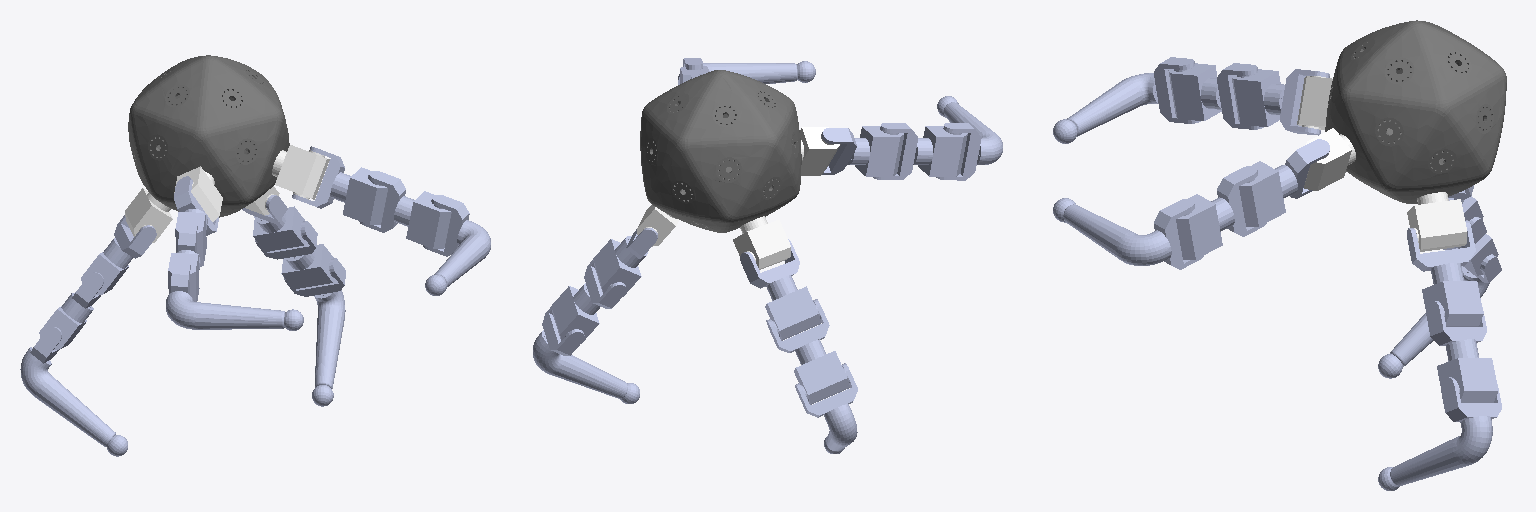
The robot description file, URDF, robot "mod_test":
<?xml version="1.0" encoding="utf-8"?>
<robot
  name="mod_test">
  <link
    name="base_link">
    <inertial>
      <origin
        xyz="-1.5226495220944E-06 1.5812928362389E-07 -5.05247252856584E-07"
        rpy="0 0 0" />
      <mass
        value="0.422806992949252" />
      <inertia
        ixx="0.00237499139253511"
        ixy="1.5717831530364E-08"
        ixz="1.49286265366169E-08"
        iyy="0.00237502154661776"
        iyz="-2.02154172619351E-08"
        izz="0.00237502595466009" />
    </inertial>
    <visual>
      <origin
        xyz="0 0 0"
        rpy="0 0 0" />
      <geometry>
        <mesh
          filename="package://meshes/base_link.STL" />
      </geometry>
      <material
        name="">
        <color
          rgba="0.498039215686275 0.498039215686275 0.498039215686275 1" />
      </material>
    </visual>
    <collision>
      <origin
        xyz="0 0 0"
        rpy="0 0 0" />
      <geometry>
        <mesh
          filename="package://meshes/base_link.STL" />
      </geometry>
    </collision>
  </link>
  <link
   name="100">
   <inertial>
      <origin
        xyz="0 0 0.028508"
        rpy="0 0 0" />
      <mass
        value="0.076173" />
      <inertia
        ixx="3.054E-05"
        ixy="0.000000"
        ixz="-0.000000"
        iyy="2.1077E-05"
        iyz="-0.000000"
        izz="2.1165E-05" />
    </inertial>
    <visual>
      <origin
        xyz="0 0 0"
        rpy="0 0 0" />
      <geometry>
        <mesh
          filename="package://meshes/1.STL" />
      </geometry>
      <material
        name="">
        <color
          rgba="1 1 1 1" />
      </material>
    </visual>
    <collision>
      <origin
        xyz="0 0 0"
        rpy="0 0 0" />
      <geometry>
        <mesh
          filename="package://meshes/1.STL" />
      </geometry>
    </collision>
  </link>
  <joint
    name="body_100"
    type="fixed">
    <origin
        xyz="0.051620 -0.071049 -0.016769"
        rpy="-1.787804 -0.513383 -2.405411" />
    <parent
      link="base_link" />
    <child
      link="100" />
    <axis
      xyz="0 0 0" />
  </joint>
  <link
    name="101">
    <inertial>
      <origin
        xyz="0.060018 -1.4108E-06 1.4108E-06"
        rpy="0 0 0" />
    <mass
        value="0.10689" />
      <inertia
        ixx="3.2684e-05"
        ixy="-2.5662e-09"
        ixz="2.5662e-09"
        iyy="9.1229e-05"
        iyz="4.0975e-06"
        izz="7.7485e-05" />
    </inertial>
    <visual>
      <origin
        xyz="0 0 0"
        rpy="0 0 0" />
      <geometry>
        <mesh
          filename="package://meshes/module1.STL" />
      </geometry>
      <material
        name="">
        <color
          rgba="0.79216 0.81961 0.93333 1" />
      </material>
    </visual>
    <collision>
      <origin
        xyz="0 0 0"
        rpy="0 0 0" />
      <geometry>
        <mesh
          filename="package://meshes/module1.STL" />
      </geometry>
    </collision>
  </link>
  <joint
    name="100_101"
    type="revolute">
    <origin
      xyz="0 0 0.04"
      rpy="-1.558 -1.5708 -0.012835" />
    <parent
      link="100" />
    <child
      link="101" />
    <axis
      xyz="0 0 1" />
    <limit
      lower="-6.28"
      upper="6.28"
      effort="10"
      velocity="100" />
  </joint>
  <link
    name="102">
    <inertial>
      <origin
        xyz="0.060018 -1.4108E-06 1.4108E-06"
        rpy="0 0 0" />
    <mass
        value="0.10689" />
      <inertia
        ixx="3.2684e-05"
        ixy="-2.5662e-09"
        ixz="2.5662e-09"
        iyy="9.3595e-05"
        iyz="-2.1275e-13"
        izz="7.512e-05" />
    </inertial>
    <visual>
      <origin
        xyz="0 0 0"
        rpy="0 0 0" />
      <geometry>
        <mesh
          filename="package://meshes/module6.STL" />
      </geometry>
      <material
        name="">
        <color
          rgba="0.79216 0.81961 0.93333 1" />
      </material>
    </visual>
    <collision>
      <origin
        xyz="0 0 0"
        rpy="0 0 0" />
      <geometry>
        <mesh
          filename="package://meshes/module6.STL" />
      </geometry>
    </collision>
  </link>
  <joint
    name="101_102"
    type="revolute">
    <origin
      xyz="0.0816 0 0"
      rpy="0.523599 0 0" />
    <parent
      link="101" />
    <child
      link="102" />
    <axis
      xyz="0 0 1" />
    <limit
      lower="-6.28"
      upper="6.28"
      effort="10"
      velocity="100" />
  </joint>
  <link
    name="103">
    <inertial>
      <origin
        xyz="0.051733 -0.042281 -1.3878E-17"
        rpy="0 0 0" />
    <mass
        value="0.12059" />
      <inertia
        ixx="0.00025425"
        ixy="4.8319E-05"
        ixz="0"
        iyy="5.0194E-05"
        iyz="-3.3141E-21"
        izz="0.00027482" />
    </inertial>
    <visual>
      <origin
        xyz="0 0 0"
        rpy="0 0 0" />
      <geometry>
        <mesh
          filename="package://meshes/leg.STL" />
      </geometry>
      <material
        name="">
        <color
          rgba="0.79216 0.81961 0.93333 1" />
      </material>
    </visual>
    <collision>
      <origin
        xyz="0 0 0"
        rpy="0 0 0" />
      <geometry>
        <mesh
          filename="package://meshes/leg.STL" />
      </geometry>
    </collision>
  </link>
  <joint
    name="102_103"
    type="revolute">
    <origin
      xyz="0.0816 0 0"
      rpy="3.141593 0 0" />
    <parent
      link="102" />
    <child
      link="103" />
    <axis
      xyz="0 0 1" />
    <limit
      lower="-6.28"
      upper="6.28"
      effort="10"
      velocity="100" />
  </joint>
  <link
   name="160">
   <inertial>
      <origin
        xyz="0 0 0.028508"
        rpy="0 0 0" />
      <mass
        value="0.076173" />
      <inertia
        ixx="3.054E-05"
        ixy="0.000000"
        ixz="0.000000"
        iyy="2.1077E-05"
        iyz="0.000000"
        izz="2.1165E-05" />
    </inertial>
    <visual>
      <origin
        xyz="0 0 0"
        rpy="0 0 0" />
      <geometry>
        <mesh
          filename="package://meshes/1.STL" />
      </geometry>
      <material
        name="">
        <color
          rgba="1 1 1 1" />
      </material>
    </visual>
    <collision>
      <origin
        xyz="0 0 0"
        rpy="0 0 0" />
      <geometry>
        <mesh
          filename="package://meshes/1.STL" />
      </geometry>
    </collision>
  </link>
  <joint
    name="body_160"
    type="fixed">
    <origin
        xyz="0.051623 0.016773 -0.071046"
        rpy="3.141593 -0.652404 0.314159" />
    <parent
      link="base_link" />
    <child
      link="160" />
    <axis
      xyz="0 0 0" />
  </joint>
  <link
    name="161">
    <inertial>
      <origin
        xyz="0.060018 -1.4108E-06 1.4108E-06"
        rpy="0 0 0" />
    <mass
        value="0.10689" />
      <inertia
        ixx="3.2684e-05"
        ixy="-2.5662e-09"
        ixz="2.5662e-09"
        iyy="9.1229e-05"
        iyz="-4.0975e-06"
        izz="7.7485e-05" />
    </inertial>
    <visual>
      <origin
        xyz="0 0 0"
        rpy="0 0 0" />
      <geometry>
        <mesh
          filename="package://meshes/module11.STL" />
      </geometry>
      <material
        name="">
        <color
          rgba="0.79216 0.81961 0.93333 1" />
      </material>
    </visual>
    <collision>
      <origin
        xyz="0 0 0"
        rpy="0 0 0" />
      <geometry>
        <mesh
          filename="package://meshes/module11.STL" />
      </geometry>
    </collision>
  </link>
  <joint
    name="160_161"
    type="revolute">
    <origin
      xyz="0 0 0.04"
      rpy="-1.558 -1.5708 -0.012835" />
    <parent
      link="160" />
    <child
      link="161" />
    <axis
      xyz="0 0 1" />
    <limit
      lower="-6.28"
      upper="6.28"
      effort="10"
      velocity="100" />
  </joint>
  <link
    name="162">
    <inertial>
      <origin
        xyz="0.060018 -1.4108E-06 1.4108E-06"
        rpy="0 0 0" />
    <mass
        value="0.10689" />
      <inertia
        ixx="3.2684e-05"
        ixy="-2.5662e-09"
        ixz="2.5662e-09"
        iyy="9.3595e-05"
        iyz="-2.1275e-13"
        izz="7.512e-05" />
    </inertial>
    <visual>
      <origin
        xyz="0 0 0"
        rpy="0 0 0" />
      <geometry>
        <mesh
          filename="package://meshes/module0.STL" />
      </geometry>
      <material
        name="">
        <color
          rgba="0.79216 0.81961 0.93333 1" />
      </material>
    </visual>
    <collision>
      <origin
        xyz="0 0 0"
        rpy="0 0 0" />
      <geometry>
        <mesh
          filename="package://meshes/module0.STL" />
      </geometry>
    </collision>
  </link>
  <joint
    name="161_162"
    type="revolute">
    <origin
      xyz="0.0816 0 0"
      rpy="5.759587 0 0" />
    <parent
      link="161" />
    <child
      link="162" />
    <axis
      xyz="0 0 1" />
    <limit
      lower="-6.28"
      upper="6.28"
      effort="10"
      velocity="100" />
  </joint>
  <link
    name="163">
    <inertial>
      <origin
        xyz="0.051733 -0.042281 -1.3878E-17"
        rpy="0 0 0" />
    <mass
        value="0.12059" />
      <inertia
        ixx="0.00025425"
        ixy="4.8319E-05"
        ixz="0"
        iyy="5.0194E-05"
        iyz="-3.3141E-21"
        izz="0.00027482" />
    </inertial>
    <visual>
      <origin
        xyz="0 0 0"
        rpy="0 0 0" />
      <geometry>
        <mesh
          filename="package://meshes/leg.STL" />
      </geometry>
      <material
        name="">
        <color
          rgba="0.79216 0.81961 0.93333 1" />
      </material>
    </visual>
    <collision>
      <origin
        xyz="0 0 0"
        rpy="0 0 0" />
      <geometry>
        <mesh
          filename="package://meshes/leg.STL" />
      </geometry>
    </collision>
  </link>
  <joint
    name="162_163"
    type="revolute">
    <origin
      xyz="0.0816 0 0"
      rpy="0.000000 0 0" />
    <parent
      link="162" />
    <child
      link="163" />
    <axis
      xyz="0 0 1" />
    <limit
      lower="-6.28"
      upper="6.28"
      effort="10"
      velocity="100" />
  </joint>
  <link
   name="180">
   <inertial>
      <origin
        xyz="0 0 0.028508"
        rpy="0 0 0" />
      <mass
        value="0.076173" />
      <inertia
        ixx="3.054E-05"
        ixy="0.000000"
        ixz="0.000000"
        iyy="2.1077E-05"
        iyz="0.000000"
        izz="2.1165E-05" />
    </inertial>
    <visual>
      <origin
        xyz="0 0 0"
        rpy="0 0 0" />
      <geometry>
        <mesh
          filename="package://meshes/1.STL" />
      </geometry>
      <material
        name="">
        <color
          rgba="1 1 1 1" />
      </material>
    </visual>
    <collision>
      <origin
        xyz="0 0 0"
        rpy="0 0 0" />
      <geometry>
        <mesh
          filename="package://meshes/1.STL" />
      </geometry>
    </collision>
  </link>
  <joint
    name="body_180"
    type="fixed">
    <origin
        xyz="-0.051623 0.016773 -0.071046"
        rpy="3.141593 -0.652404 2.827433" />
    <parent
      link="base_link" />
    <child
      link="180" />
    <axis
      xyz="0 0 0" />
  </joint>
  <link
    name="181">
    <inertial>
      <origin
        xyz="0.060018 -1.4108E-06 1.4108E-06"
        rpy="0 0 0" />
    <mass
        value="0.10689" />
      <inertia
        ixx="3.2684e-05"
        ixy="-2.5662e-09"
        ixz="2.5662e-09"
        iyy="9.1229e-05"
        iyz="4.0975e-06"
        izz="7.7485e-05" />
    </inertial>
    <visual>
      <origin
        xyz="0 0 0"
        rpy="0 0 0" />
      <geometry>
        <mesh
          filename="package://meshes/module1.STL" />
      </geometry>
      <material
        name="">
        <color
          rgba="0.79216 0.81961 0.93333 1" />
      </material>
    </visual>
    <collision>
      <origin
        xyz="0 0 0"
        rpy="0 0 0" />
      <geometry>
        <mesh
          filename="package://meshes/module1.STL" />
      </geometry>
    </collision>
  </link>
  <joint
    name="180_181"
    type="revolute">
    <origin
      xyz="0 0 0.04"
      rpy="-1.558 -1.5708 -0.012835" />
    <parent
      link="180" />
    <child
      link="181" />
    <axis
      xyz="0 0 1" />
    <limit
      lower="-6.28"
      upper="6.28"
      effort="10"
      velocity="100" />
  </joint>
  <link
    name="182">
    <inertial>
      <origin
        xyz="0.060018 -1.4108E-06 1.4108E-06"
        rpy="0 0 0" />
    <mass
        value="0.10689" />
      <inertia
        ixx="3.2684e-05"
        ixy="-2.5662e-09"
        ixz="2.5662e-09"
        iyy="9.3595e-05"
        iyz="-2.1275e-13"
        izz="7.512e-05" />
    </inertial>
    <visual>
      <origin
        xyz="0 0 0"
        rpy="0 0 0" />
      <geometry>
        <mesh
          filename="package://meshes/module0.STL" />
      </geometry>
      <material
        name="">
        <color
          rgba="0.79216 0.81961 0.93333 1" />
      </material>
    </visual>
    <collision>
      <origin
        xyz="0 0 0"
        rpy="0 0 0" />
      <geometry>
        <mesh
          filename="package://meshes/module0.STL" />
      </geometry>
    </collision>
  </link>
  <joint
    name="181_182"
    type="revolute">
    <origin
      xyz="0.0816 0 0"
      rpy="0.523599 0 0" />
    <parent
      link="181" />
    <child
      link="182" />
    <axis
      xyz="0 0 1" />
    <limit
      lower="-6.28"
      upper="6.28"
      effort="10"
      velocity="100" />
  </joint>
  <link
    name="183">
    <inertial>
      <origin
        xyz="0.051733 -0.042281 -1.3878E-17"
        rpy="0 0 0" />
    <mass
        value="0.12059" />
      <inertia
        ixx="0.00025425"
        ixy="4.8319E-05"
        ixz="0"
        iyy="5.0194E-05"
        iyz="-3.3141E-21"
        izz="0.00027482" />
    </inertial>
    <visual>
      <origin
        xyz="0 0 0"
        rpy="0 0 0" />
      <geometry>
        <mesh
          filename="package://meshes/leg.STL" />
      </geometry>
      <material
        name="">
        <color
          rgba="0.79216 0.81961 0.93333 1" />
      </material>
    </visual>
    <collision>
      <origin
        xyz="0 0 0"
        rpy="0 0 0" />
      <geometry>
        <mesh
          filename="package://meshes/leg.STL" />
      </geometry>
    </collision>
  </link>
  <joint
    name="182_183"
    type="revolute">
    <origin
      xyz="0.0816 0 0"
      rpy="0.000000 0 0" />
    <parent
      link="182" />
    <child
      link="183" />
    <axis
      xyz="0 0 1" />
    <limit
      lower="-6.28"
      upper="6.28"
      effort="10"
      velocity="100" />
  </joint>
  <link
   name="140">
   <inertial>
      <origin
        xyz="0 0 0.028508"
        rpy="0 0 0" />
      <mass
        value="0.076173" />
      <inertia
        ixx="3.054E-05"
        ixy="0.000000"
        ixz="-0.000000"
        iyy="2.1077E-05"
        iyz="0.000021"
        izz="2.1165E-05" />
    </inertial>
    <visual>
      <origin
        xyz="0 0 0"
        rpy="0 0 0" />
      <geometry>
        <mesh
          filename="package://meshes/1.STL" />
      </geometry>
      <material
        name="">
        <color
          rgba="1 1 1 1" />
      </material>
    </visual>
    <collision>
      <origin
        xyz="0 0 0"
        rpy="0 0 0" />
      <geometry>
        <mesh
          filename="package://meshes/1.STL" />
      </geometry>
    </collision>
  </link>
  <joint
    name="body_140"
    type="fixed">
    <origin
        xyz="-0.051620 -0.071049 -0.016769"
        rpy="1.787804 -0.513383 -0.736182" />
    <parent
      link="base_link" />
    <child
      link="140" />
    <axis
      xyz="0 0 0" />
  </joint>
  <link
    name="141">
    <inertial>
      <origin
        xyz="0.060018 -1.4108E-06 1.4108E-06"
        rpy="0 0 0" />
    <mass
        value="0.10689" />
      <inertia
        ixx="3.2684e-05"
        ixy="-2.5662e-09"
        ixz="2.5662e-09"
        iyy="9.1229e-05"
        iyz="-4.0975e-06"
        izz="7.7485e-05" />
    </inertial>
    <visual>
      <origin
        xyz="0 0 0"
        rpy="0 0 0" />
      <geometry>
        <mesh
          filename="package://meshes/module11.STL" />
      </geometry>
      <material
        name="">
        <color
          rgba="0.79216 0.81961 0.93333 1" />
      </material>
    </visual>
    <collision>
      <origin
        xyz="0 0 0"
        rpy="0 0 0" />
      <geometry>
        <mesh
          filename="package://meshes/module11.STL" />
      </geometry>
    </collision>
  </link>
  <joint
    name="140_141"
    type="revolute">
    <origin
      xyz="0 0 0.04"
      rpy="-1.558 -1.5708 -0.012835" />
    <parent
      link="140" />
    <child
      link="141" />
    <axis
      xyz="0 0 1" />
    <limit
      lower="-6.28"
      upper="6.28"
      effort="10"
      velocity="100" />
  </joint>
  <link
    name="142">
    <inertial>
      <origin
        xyz="0.060018 -1.4108E-06 1.4108E-06"
        rpy="0 0 0" />
    <mass
        value="0.10689" />
      <inertia
        ixx="3.2684e-05"
        ixy="-2.5662e-09"
        ixz="2.5662e-09"
        iyy="9.3595e-05"
        iyz="-2.1275e-13"
        izz="7.512e-05" />
    </inertial>
    <visual>
      <origin
        xyz="0 0 0"
        rpy="0 0 0" />
      <geometry>
        <mesh
          filename="package://meshes/module6.STL" />
      </geometry>
      <material
        name="">
        <color
          rgba="0.79216 0.81961 0.93333 1" />
      </material>
    </visual>
    <collision>
      <origin
        xyz="0 0 0"
        rpy="0 0 0" />
      <geometry>
        <mesh
          filename="package://meshes/module6.STL" />
      </geometry>
    </collision>
  </link>
  <joint
    name="141_142"
    type="revolute">
    <origin
      xyz="0.0816 0 0"
      rpy="5.759587 0 0" />
    <parent
      link="141" />
    <child
      link="142" />
    <axis
      xyz="0 0 1" />
    <limit
      lower="-6.28"
      upper="6.28"
      effort="10"
      velocity="100" />
  </joint>
  <link
    name="143">
    <inertial>
      <origin
        xyz="0.051733 -0.042281 -1.3878E-17"
        rpy="0 0 0" />
    <mass
        value="0.12059" />
      <inertia
        ixx="0.00025425"
        ixy="4.8319E-05"
        ixz="0"
        iyy="5.0194E-05"
        iyz="-3.3141E-21"
        izz="0.00027482" />
    </inertial>
    <visual>
      <origin
        xyz="0 0 0"
        rpy="0 0 0" />
      <geometry>
        <mesh
          filename="package://meshes/leg.STL" />
      </geometry>
      <material
        name="">
        <color
          rgba="0.79216 0.81961 0.93333 1" />
      </material>
    </visual>
    <collision>
      <origin
        xyz="0 0 0"
        rpy="0 0 0" />
      <geometry>
        <mesh
          filename="package://meshes/leg.STL" />
      </geometry>
    </collision>
  </link>
  <joint
    name="142_143"
    type="revolute">
    <origin
      xyz="0.0816 0 0"
      rpy="3.141593 0 0" />
    <parent
      link="142" />
    <child
      link="143" />
    <axis
      xyz="0 0 1" />
    <limit
      lower="-6.28"
      upper="6.28"
      effort="10"
      velocity="100" />
  </joint>
  <link
    name = "ball_1">
    <inertial>
    <origin
        xyz="0 0 0"
        rpy="0 0 0" />
    <mass
        value="0" />
      <inertia
        ixx="0"
        ixy="0"
        ixz="0"
        iyy="0"
        iyz="0"
        izz="0" />
    </inertial>    <visual>
      <origin
        xyz="0 0 0"
        rpy="0 0 0" />
     <geometry>
        <sphere radius = "0.01"/>
      </geometry>
      <material
        name="green">
        <color
          rgba="0.22 1 0.4 1" />
      </material>
    </visual>
  </link>
  <joint
  name="103_ball1"
  type="fixed">
    <origin
      xyz="0.0612 -0.13431 0"
      rpy="0 0 0" />
    <parent
      link="103" />
    <child
      link="ball_1" />
    <axis
      xyz="0 0 0" />
  </joint>
  <link
    name = "ball_2">
    <inertial>
    <origin
        xyz="0 0 0"
        rpy="0 0 0" />
    <mass
        value="0" />
      <inertia
        ixx="0"
        ixy="0"
        ixz="0"
        iyy="0"
        iyz="0"
        izz="0" />
    </inertial>    <visual>
      <origin
        xyz="0 0 0"
        rpy="0 0 0" />
      <geometry>
        <sphere radius = "0.01"/>
      </geometry>
      <material
        name="blue">
        <color
          rgba="0.16 0.52 0.8 1" />
      </material>
    </visual>
  </link>
  <joint
  name="163_ball2"
  type="fixed">
    <origin
      xyz="0.0612 -0.13431 0"
      rpy="0 0 0" />
    <parent
      link="163" />
    <child
      link="ball_2" />
    <axis
      xyz="0 0 0" />
  </joint>
  <link
    name = "ball_3">
    <inertial>
    <origin
        xyz="0 0 0"
        rpy="0 0 0" />
    <mass
        value="0" />
      <inertia
        ixx="0"
        ixy="0"
        ixz="0"
        iyy="0"
        iyz="0"
        izz="0" />
    </inertial>    <visual>
      <origin
        xyz="0 0 0"
        rpy="0 0 0" />
     <geometry>
        <sphere radius = "0.01"/>
      </geometry>
      <material
        name="blue">
        <color
          rgba="0.16 0.52 0.8 1" />
      </material>
    </visual>
  </link>
  <joint
  name="183_ball3"
  type="fixed">
    <origin
      xyz="0.0612 -0.13431 0"
      rpy="0 0 0" />
    <parent
      link="183" />
    <child
      link="ball_3" />
    <axis
      xyz="0 0 0" />
  </joint>
  <link
    name = "ball_4">
    <inertial>
    <origin
        xyz="0 0 0"
        rpy="0 0 0" />
    <mass
        value="0" />
      <inertia
        ixx="0"
        ixy="0"
        ixz="0"
        iyy="0"
        iyz="0"
        izz="0" />
    </inertial>    <visual>
      <origin
        xyz="0 0 0"
        rpy="0 0 0" />
      <geometry>
        <sphere radius = "0.01"/>
      </geometry>
      <material
        name="yellow">
        <color
          rgba="1 1 0 1" />
      </material>
    </visual>
  </link>
  <joint
  name="143_ball4"
  type="fixed">
    <origin
      xyz="0.0612 -0.13431 0"
      rpy="0 0 0" />
    <parent
      link="143" />
    <child
      link="ball_4" />
    <axis
      xyz="0 0 0" />
  </joint>
</robot>

--- Render facts (derived) ---
Views: 3 orthographic renders of the robot side by side, from view 1: azimuth 30°, elevation 25°; view 2: azimuth 150°, elevation 25°; view 3: azimuth 270°, elevation 25°.
Model mod_test with 21 links and 20 joints (12 revolute, 8 fixed), rooted at base_link, posed every joint at zero.
Links seen in each view (by area): view 1: base_link, 143, 183, 163, 102, 103, 101, 162, 181, 100, 161, 182 (+4 smaller); view 2: base_link, 163, 181, 182, 142, 141, 162, 143, 161, 183, 180, 103 (+2 smaller); view 3: base_link, 163, 103, 143, 161, 162, 102, 141, 101, 142, 160, 183 (+4 smaller).
Link boxes in pixels (x1,y1,x2,y2): base_link: (128, 55, 289, 217); 143: (166, 257, 303, 330); 183: (20, 327, 127, 456); 163: (283, 258, 345, 406); 102: (359, 171, 451, 248); 103: (423, 195, 490, 295); 101: (292, 146, 387, 224); 162: (255, 221, 336, 288); 181: (81, 215, 156, 295); 100: (272, 145, 329, 199); 161: (242, 195, 307, 251); 182: (39, 272, 103, 349); base_link: (640, 70, 801, 232); 163: (533, 307, 639, 403); 181: (740, 239, 821, 340); 182: (766, 299, 849, 404); 142: (873, 123, 967, 179); 141: (821, 126, 903, 176); 162: (551, 260, 626, 343); 143: (936, 96, 1002, 180); 161: (593, 228, 657, 296); 183: (795, 363, 857, 453); 180: (733, 216, 790, 269); 103: (678, 58, 815, 84); base_link: (1325, 20, 1506, 203); 163: (1378, 377, 1501, 490); 103: (1053, 198, 1203, 269); 143: (1053, 57, 1200, 143); 161: (1407, 220, 1483, 326); 162: (1426, 301, 1498, 402); 102: (1176, 166, 1266, 259); 141: (1231, 69, 1329, 135); 101: (1239, 139, 1329, 226); 142: (1168, 63, 1263, 129); 160: (1407, 192, 1466, 251); 183: (1378, 254, 1501, 378).
Bounding box of the posed robot: 0.4276 × 0.4662 × 0.4667 m (x, y, z).
17 mesh visuals loaded from 7 distinct referenced files (7 binary STL).